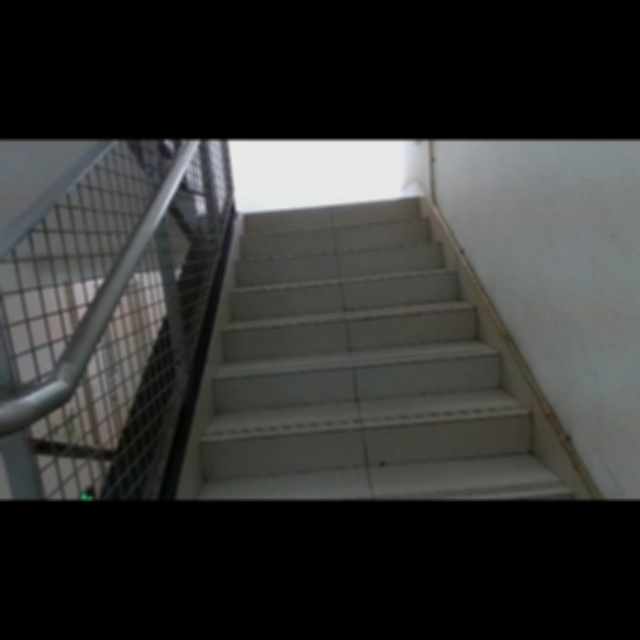stair: (216, 177, 509, 490)
